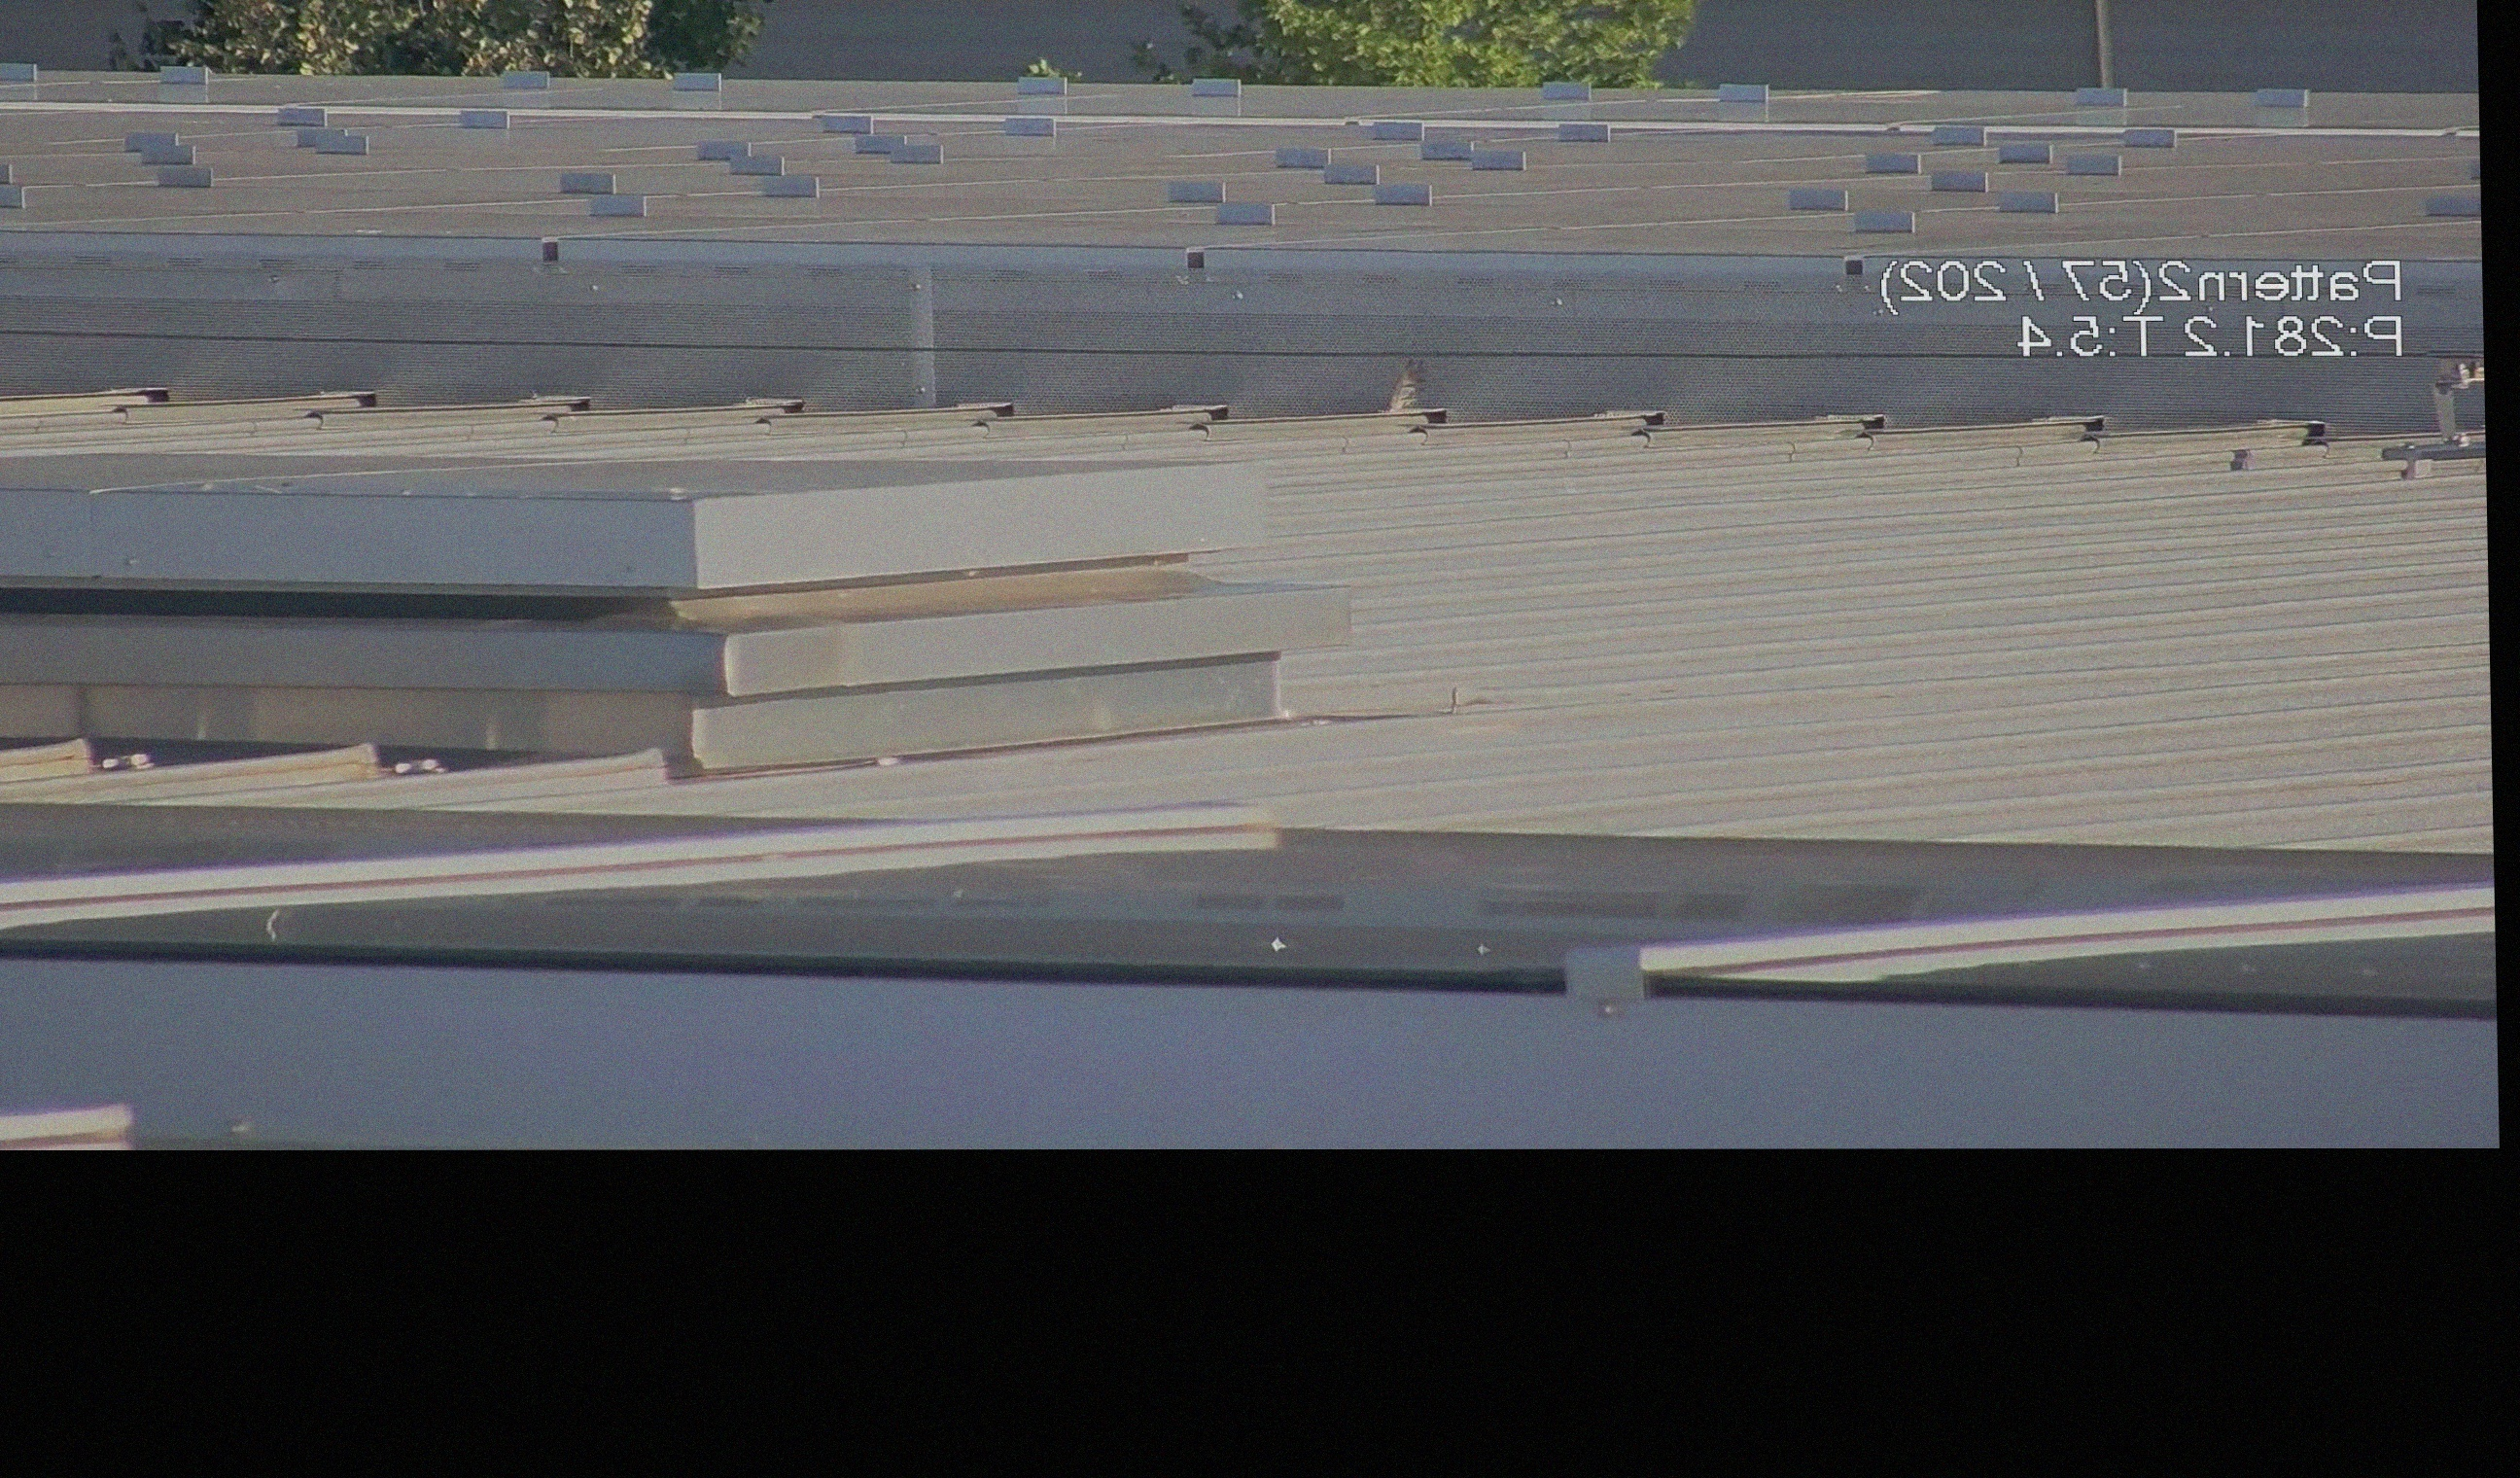Other: (1380, 345, 1460, 433)
